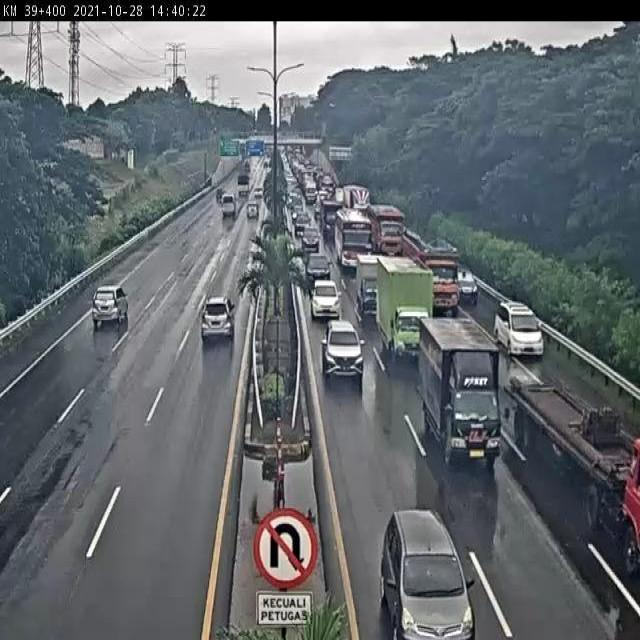bus-l-: (333, 206, 374, 270)
car: (383, 509, 477, 640), (493, 301, 540, 355), (321, 316, 363, 376), (200, 293, 237, 335), (91, 287, 128, 325), (311, 276, 340, 315), (457, 260, 476, 304), (305, 255, 331, 282)
truck-l-: (402, 229, 459, 312)
truck-m-: (419, 319, 500, 464), (374, 259, 433, 357)
truck-s-: (353, 249, 385, 315)
truck-xl-: (507, 376, 640, 572)
